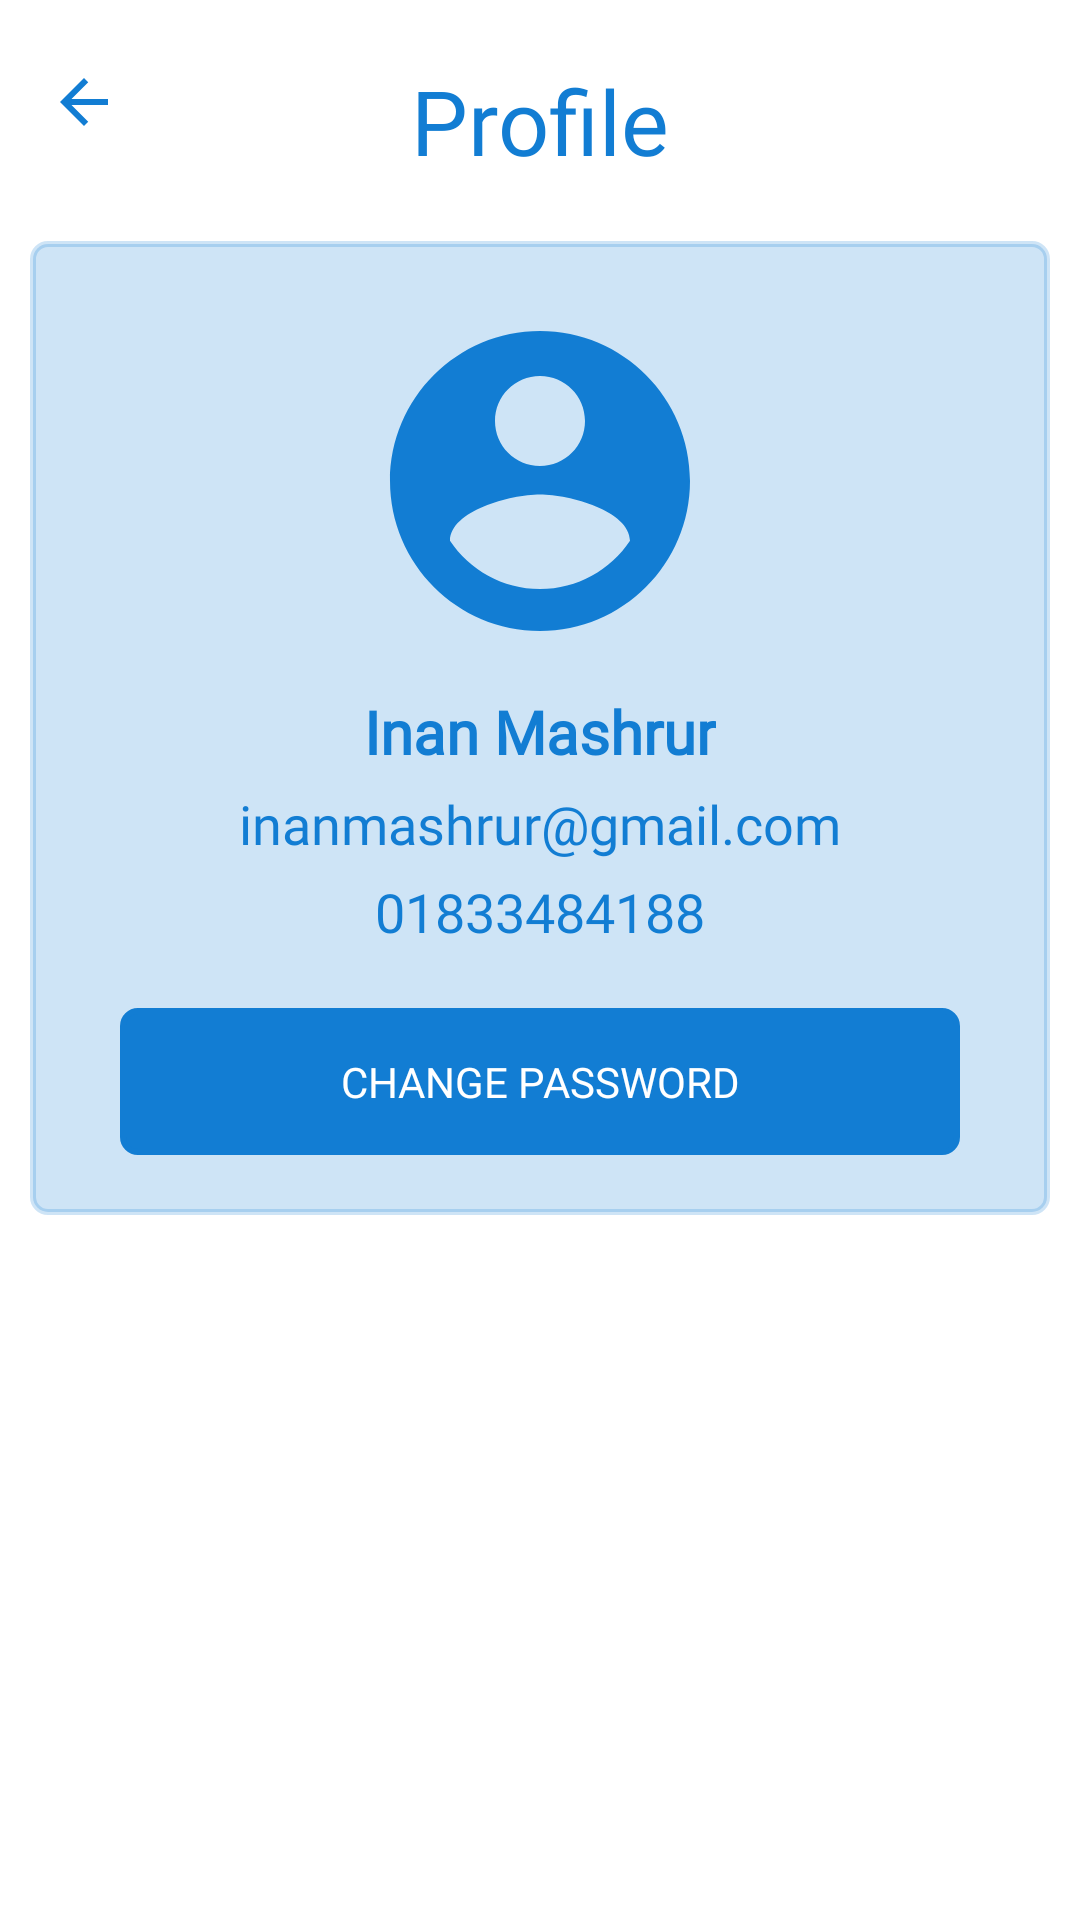

Locate icon controls on the screen. Image size 1080*1920, boxes as (x1, y1, x2, y2).
back: (60, 78, 108, 126)
